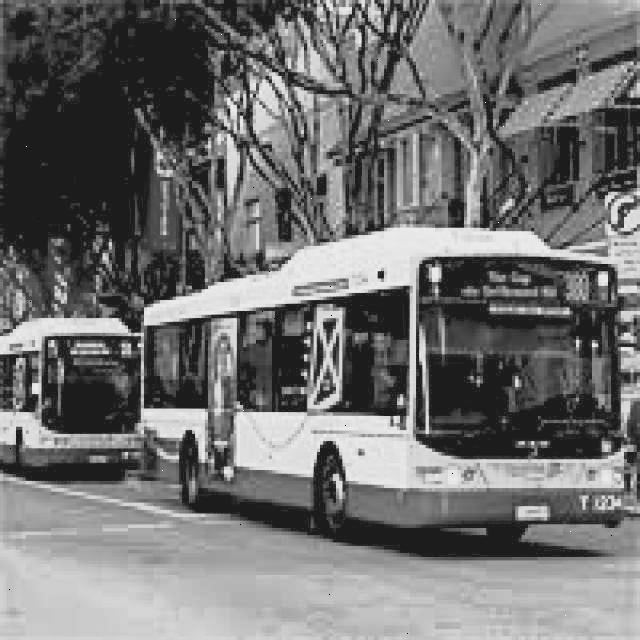Bus: (139, 220, 625, 539), (2, 320, 144, 480)
